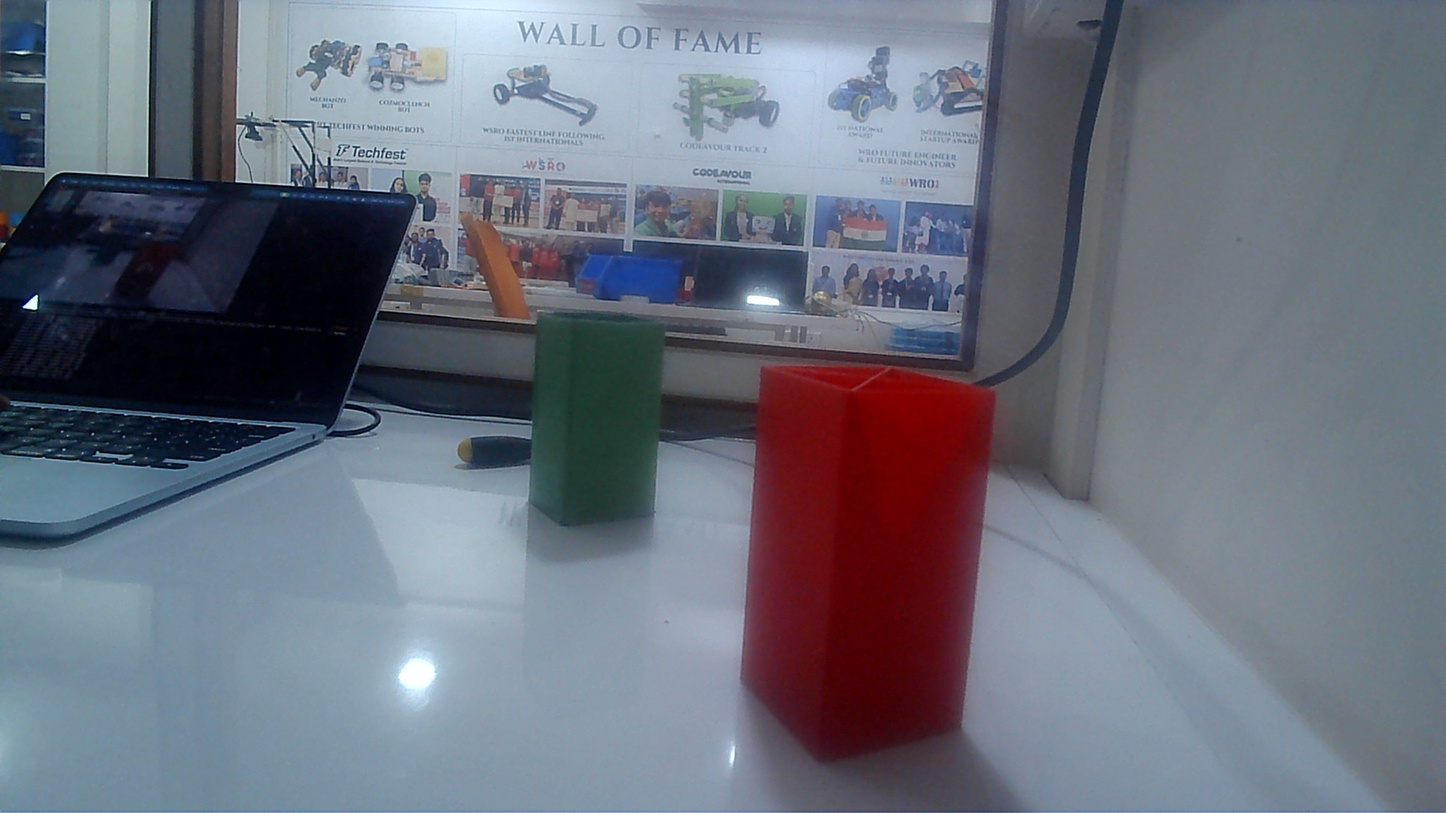red: (728, 367, 1014, 747)
